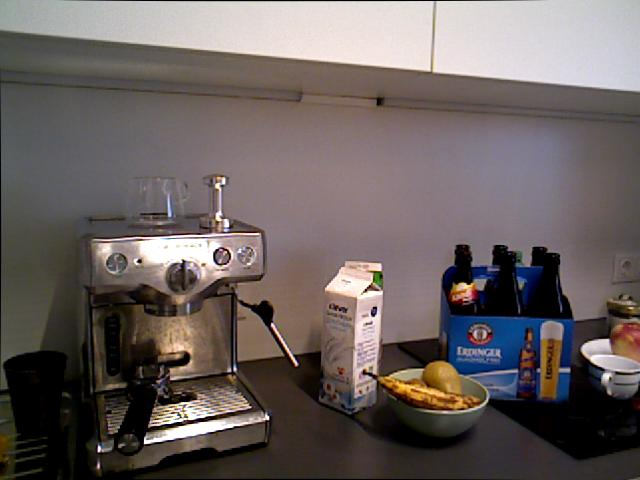bench: (319, 265, 382, 418), (336, 256, 387, 410), (439, 238, 484, 394), (527, 250, 572, 394), (482, 241, 523, 395), (486, 249, 528, 398), (442, 246, 485, 390), (524, 242, 557, 395), (519, 322, 539, 401)
bicycle: (609, 323, 639, 363)
bird: (384, 367, 489, 438)
handbag: (0, 348, 74, 426), (116, 171, 196, 231), (586, 350, 640, 402)
motorcycle: (363, 369, 482, 411)
